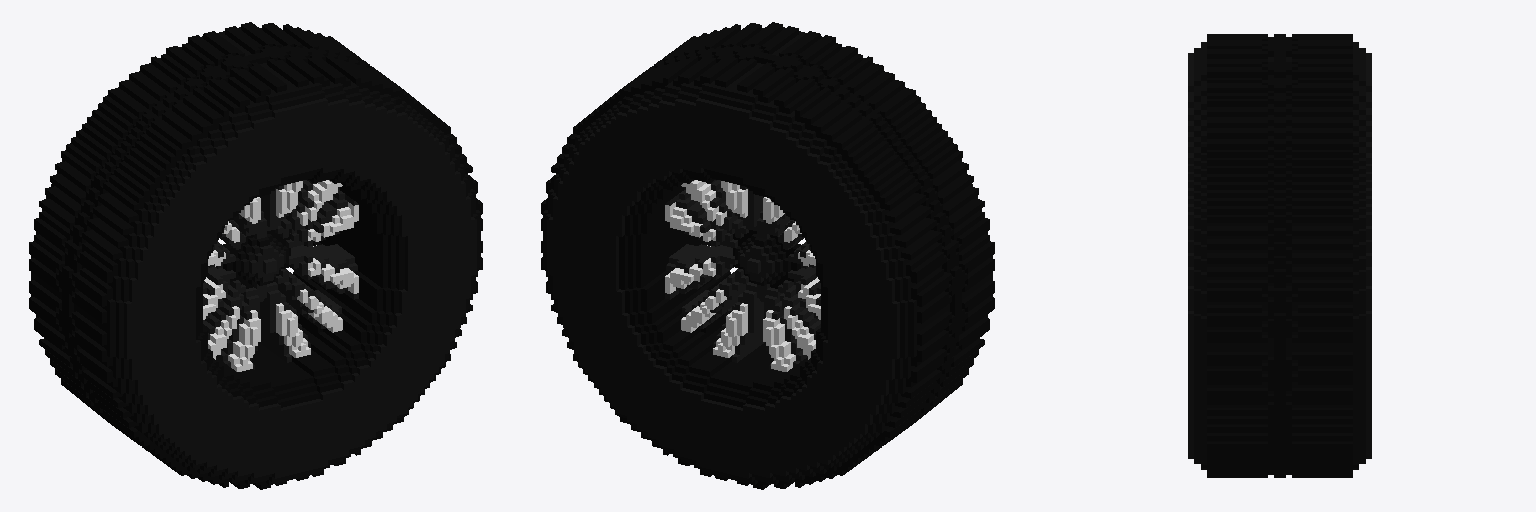
3 views of the same model, side by side, from view 1: azimuth 30°, elevation 25°; view 2: azimuth 150°, elevation 25°; view 3: azimuth 270°, elevation 25° (orthographic).
Visible parts, largest first — view 1: object 1; view 2: object 1; view 3: object 1.
Part boxes in pixels (x1,y1,x2,y2): object 1: (29,22,482,489); object 1: (541,22,994,489); object 1: (1188,34,1371,477).
Bounding box in the file's own units: 7.2 × 7.2 × 3.
Materials: 1 (1 with a texture image).